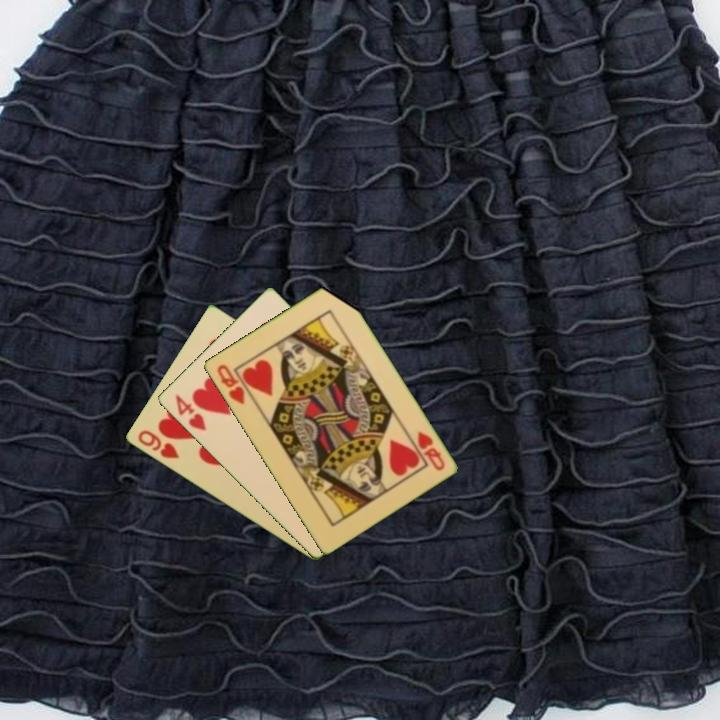4h: (171, 391, 209, 434)
9h: (134, 426, 182, 462)
Qh: (213, 361, 247, 407), (413, 428, 447, 474)
